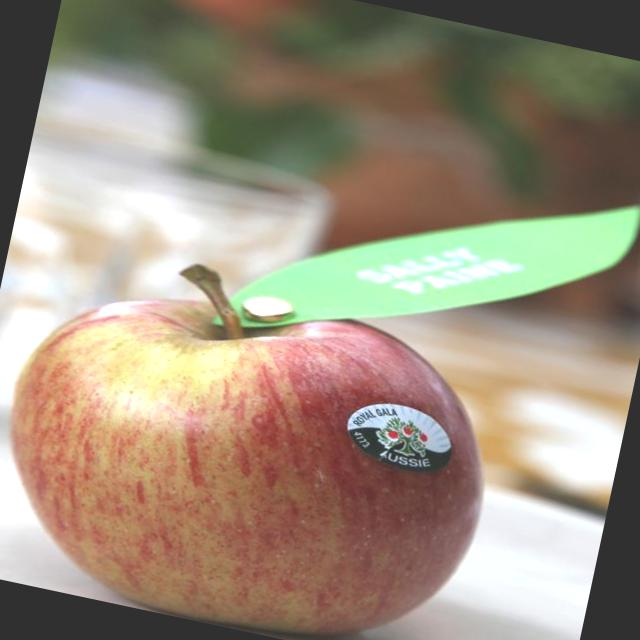Apple: (0, 230, 520, 640)
